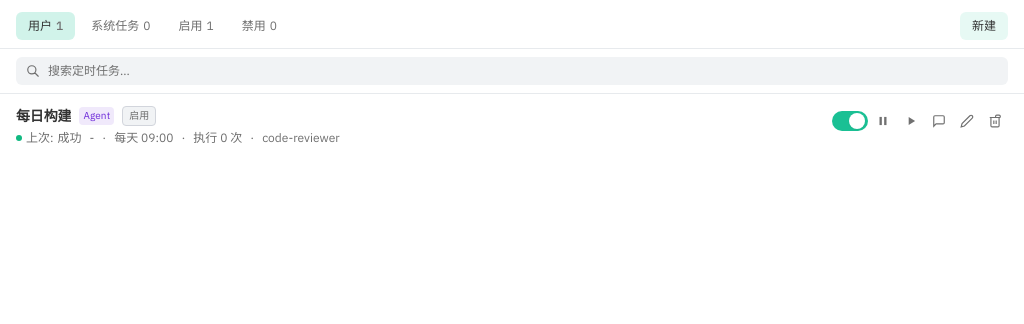
Test: 能力类任务：会话列表与跳转（B2） › 还没有执行记录：说明文案与失败态完全不同
This screenshot has width=1024, height=324.
Click the button "每日构建 Agent 启用 上次: 成功 - · 每天 09:00 · 执行 0 次 · code-reviewer": {"x": 44, "y": 116} [16,106,820,146]
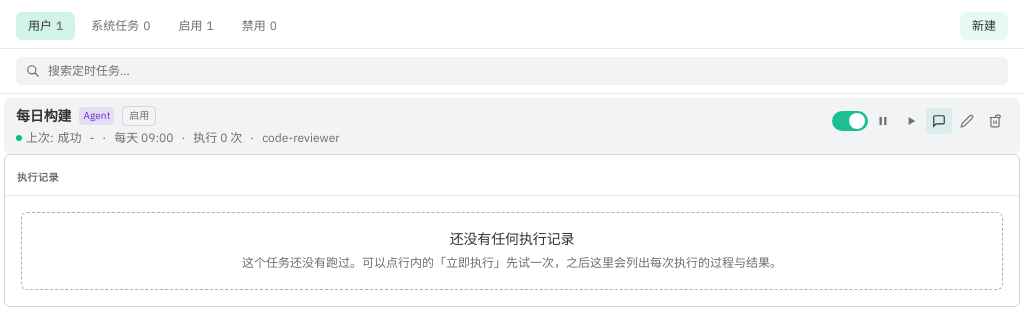
Result: the text "还没有任何执行记录" is shown at [450,230,574,248]
